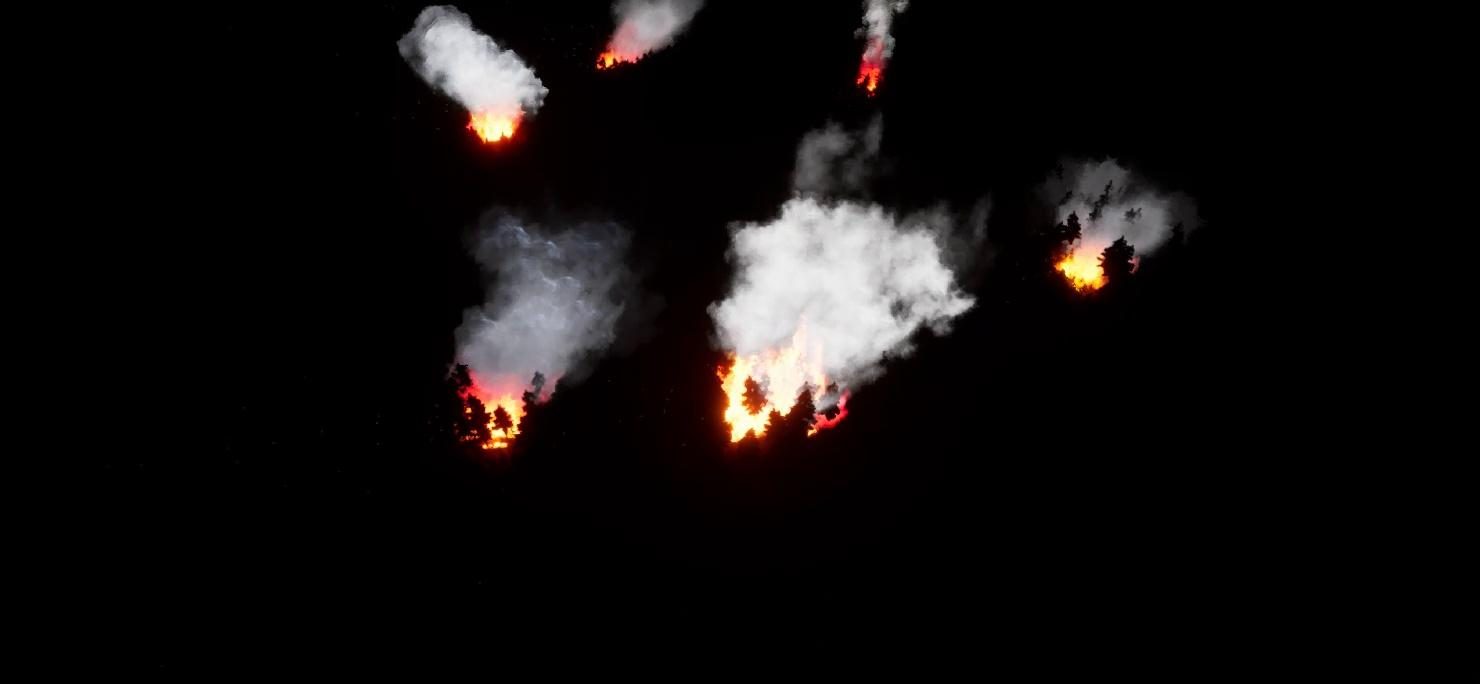fire: (715, 324, 848, 450), (455, 373, 553, 450), (1052, 232, 1124, 291), (455, 104, 519, 147), (594, 32, 642, 81), (850, 52, 889, 93)
smoke: (714, 129, 983, 383), (440, 214, 630, 386), (1040, 152, 1194, 265), (391, 0, 550, 106), (612, 1, 689, 50), (853, 0, 912, 60)
